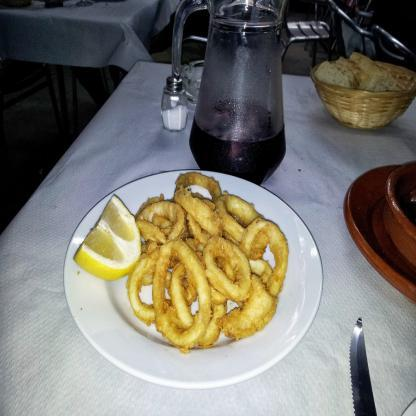lemon: (72, 193, 141, 279)
